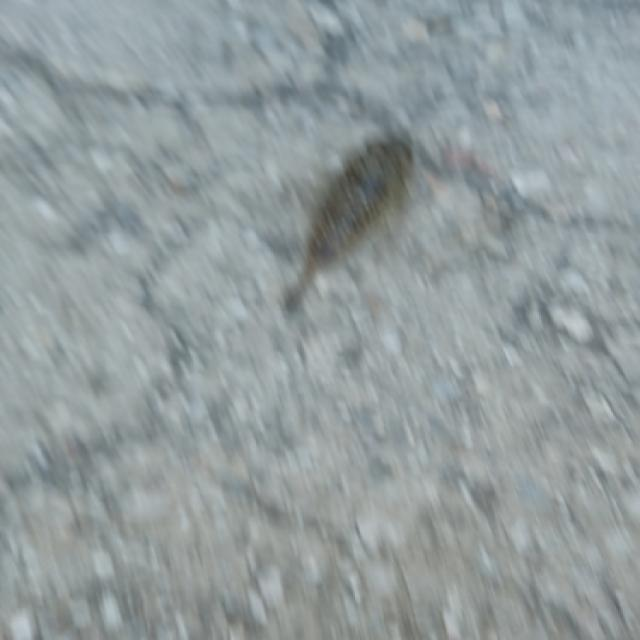Balik: (284, 136, 414, 312)
